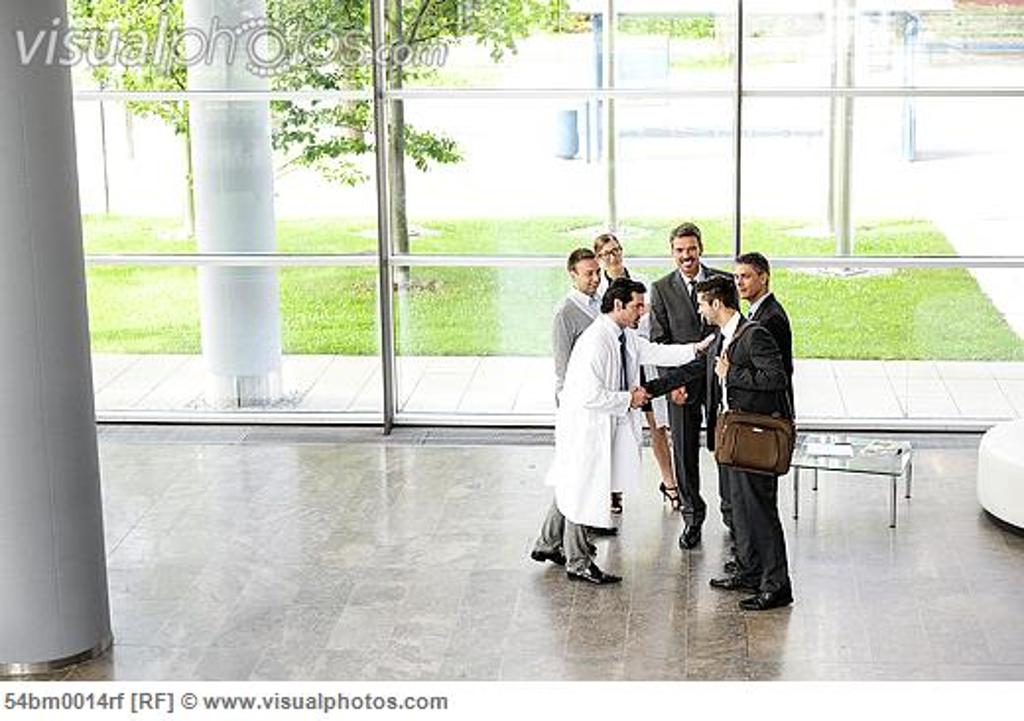face: (673, 238, 699, 271), (734, 267, 761, 297), (620, 294, 643, 328), (575, 261, 600, 292), (696, 295, 718, 324), (599, 245, 622, 270)
